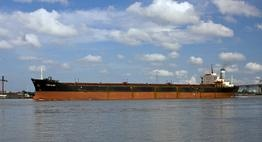Cargoship: (28, 58, 243, 103)
